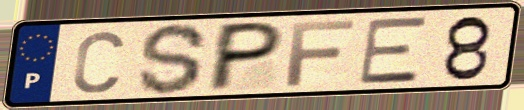8: (443, 14, 492, 82)
C: (70, 28, 128, 95)
E: (356, 14, 429, 86)
F: (284, 17, 359, 88)
P: (202, 19, 288, 94)
S: (135, 21, 211, 97)
